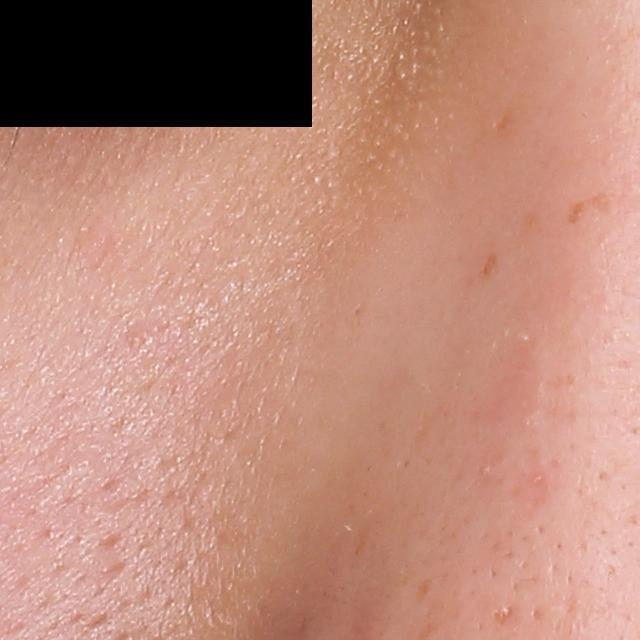melasma: (565, 192, 614, 227), (479, 250, 497, 280)
